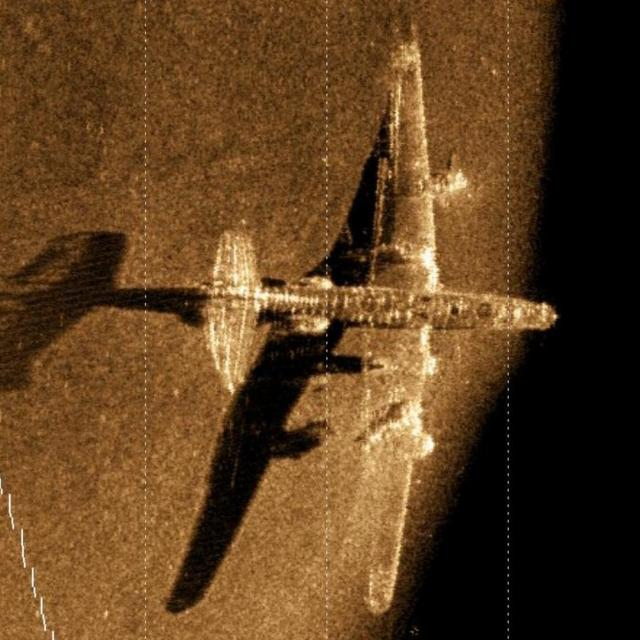plane: (185, 22, 563, 619)
